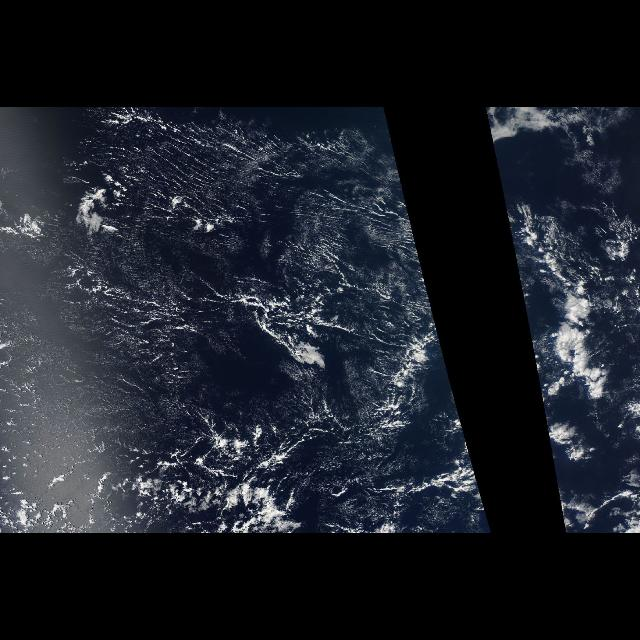Gravel: (114, 402, 343, 526), (250, 254, 432, 398)
Sugar: (5, 304, 191, 476), (105, 118, 365, 228)
